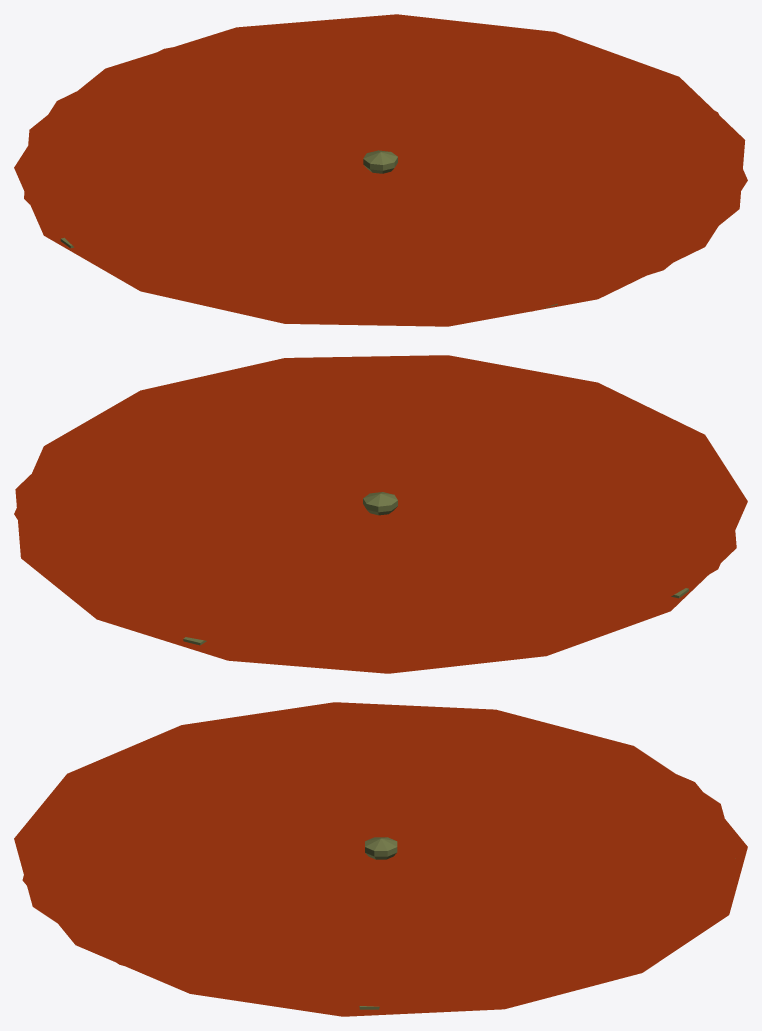
Rendered from APACROTR.glb.
The picture shows the model from 3 angles, top to bottom: view 1: azimuth 30°, elevation 25°; view 2: azimuth 150°, elevation 25°; view 3: azimuth 270°, elevation 25°; orthographic projection.
Visible parts, largest first — view 1: APACROTR | archived geometry; view 2: APACROTR | archived geometry; view 3: APACROTR | archived geometry.
Boxes of the visible parts, x1,y1,x2,y2 form: APACROTR | archived geometry: (14,14,747,326); APACROTR | archived geometry: (14,355,747,673); APACROTR | archived geometry: (14,702,747,1016).
Bounding box in the file's own units: 12.27 × 1.12 × 12.41.
